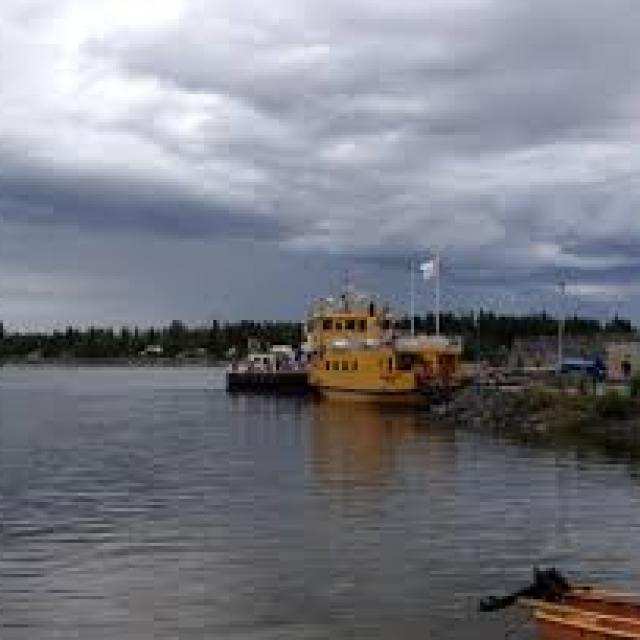fishing boat: (267, 251, 462, 407)
